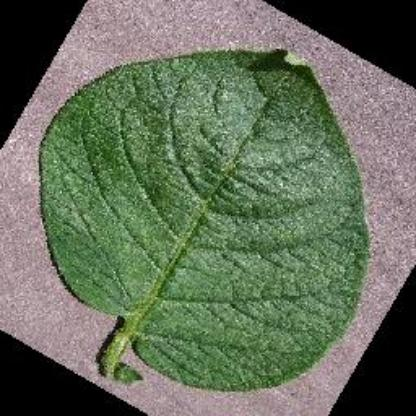Healthy-plant: (37, 44, 374, 400)
